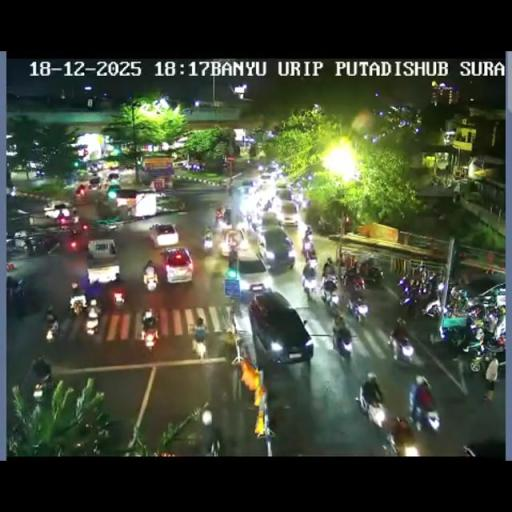Car: (247, 290, 314, 365), (255, 224, 294, 270), (234, 251, 271, 295), (86, 239, 120, 286), (160, 246, 194, 284), (114, 188, 156, 216), (219, 226, 246, 257), (149, 222, 178, 246), (44, 201, 77, 221), (277, 199, 299, 226), (274, 186, 294, 204), (88, 176, 101, 189), (259, 172, 273, 183), (107, 172, 120, 183), (241, 180, 254, 190)
Motorcycle: (462, 326, 504, 372), (70, 418, 108, 454), (423, 288, 462, 322), (357, 386, 387, 430), (409, 398, 441, 436), (389, 416, 415, 454), (216, 326, 238, 368), (388, 330, 415, 364), (201, 408, 220, 454), (439, 321, 469, 349), (140, 310, 159, 350), (332, 325, 353, 357), (6, 422, 26, 454), (32, 370, 52, 401), (343, 270, 366, 294), (348, 296, 368, 323), (190, 329, 208, 358), (14, 284, 29, 318), (84, 306, 101, 335), (320, 276, 338, 303), (397, 276, 413, 304), (492, 309, 506, 340), (302, 271, 318, 298), (245, 208, 262, 233), (44, 314, 59, 342), (290, 188, 309, 210), (69, 291, 86, 315), (366, 265, 384, 286), (142, 269, 158, 292), (111, 286, 126, 310), (466, 304, 484, 322), (318, 216, 336, 234), (302, 240, 316, 262), (202, 228, 214, 253), (322, 258, 336, 279), (330, 307, 344, 328), (214, 213, 230, 231), (67, 233, 82, 251), (418, 280, 432, 297), (25, 237, 36, 256), (260, 198, 274, 212), (70, 282, 80, 296), (304, 226, 313, 239), (78, 186, 86, 197), (227, 185, 233, 197), (437, 282, 445, 291)
